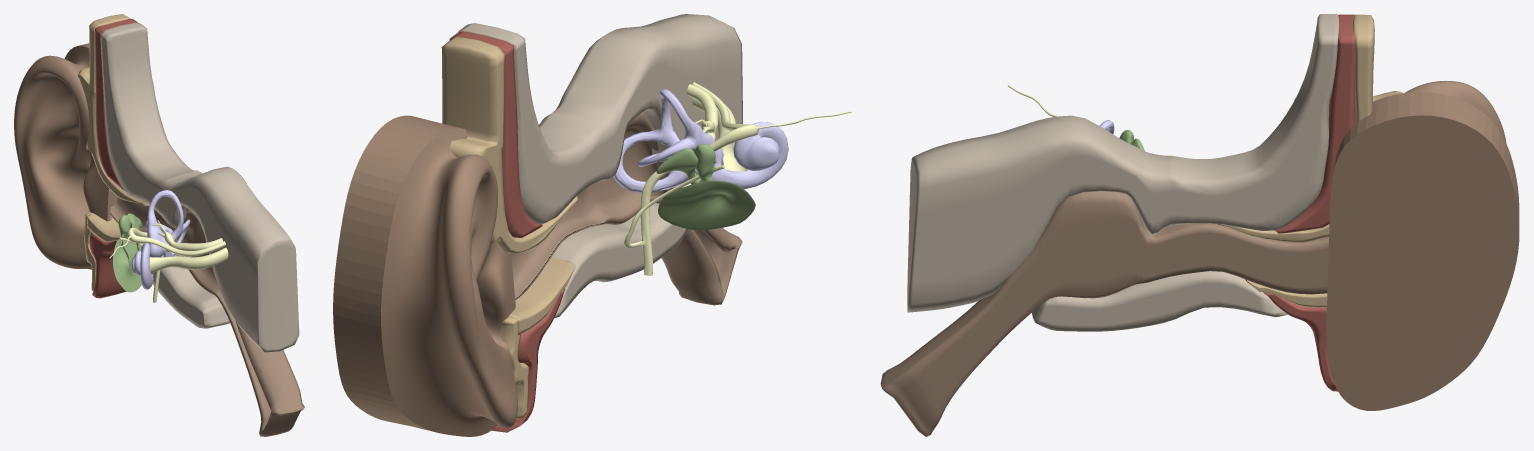
The model's file is ear.fbx.
3 renders of one model, left to right at view 1: azimuth 30°, elevation 25°; view 2: azimuth 150°, elevation 25°; view 3: azimuth 270°, elevation 25°, orthographic. The views are drawn at different scales.
Parts seen in each view (by area): view 1: temporal_bone (×2), full_ear, ear_canal, fats, choclea_and_vestibular_apparatusright_inner_ear, muscle, muscle1, right_inner_earCochlea_Nerve, vestibular_nerve, tympanic_membrane, vestibular_nerve_2, right_inner_earmalleus; view 2: full_ear, temporal_bone (×2), fats, ear_canal, choclea_and_vestibular_apparatusright_inner_ear, tympanic_membrane, muscle, vestibular_nerve, muscle1, vestibular_nerve_2, right_inner_earIncus, right_inner_earCochlea_Nerve (+1 smaller); view 3: temporal_bone (×2), full_ear, ear_canal, muscle, fats, muscle1.
Part boxes in pixels (x1,y1,x2,y2): temporal_bone (×2): (100,22,299,352); full_ear: (14,43,154,269); ear_canal: (110,197,304,436); fats: (78,14,149,291); choclea_and_vestibular_apparatusright_inner_ear: (131,190,190,289); muscle: (95,19,138,189); muscle1: (90,232,126,298); right_inner_earCochlea_Nerve: (149,247,228,274); vestibular_nerve: (109,227,225,302); tympanic_membrane: (113,237,141,292); vestibular_nerve_2: (151,220,223,251); right_inner_earmalleus: (118,215,130,265); full_ear: (333,115,517,436); temporal_bone (×2): (458,14,742,317); fats: (441,36,577,418); ear_canal: (511,111,742,305); choclea_and_vestibular_apparatusright_inner_ear: (613,89,788,193); tympanic_membrane: (658,181,755,230); muscle: (449,31,542,237); vestibular_nerve: (624,82,851,275); muscle1: (491,288,565,432); vestibular_nerve_2: (687,84,718,140); right_inner_earIncus: (656,148,701,184); right_inner_earCochlea_Nerve: (692,98,748,171); temporal_bone (×2): (907,14,1339,331); full_ear: (1326,80,1519,410); ear_canal: (880,191,1328,436); muscle: (1275,14,1355,233); fats: (1216,14,1403,307); muscle1: (1264,293,1337,391).
Bounding box in the file's own units: 2.11 × 3.34 × 4.77.
